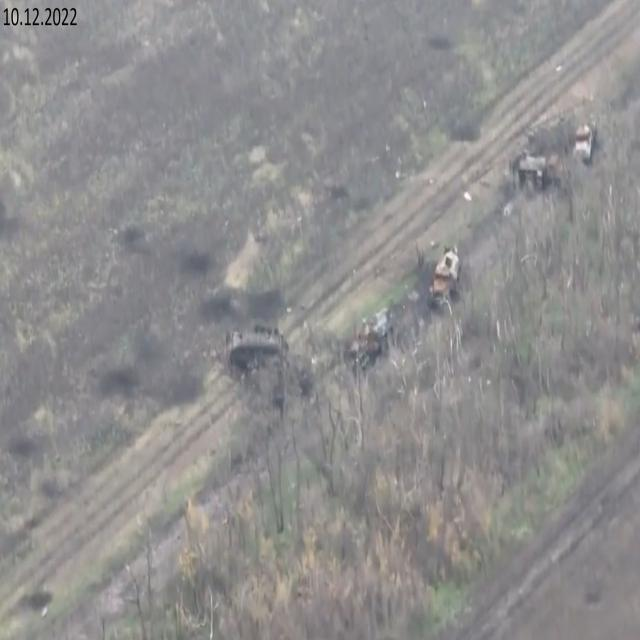apc: (230, 332, 289, 363)
cars: (519, 156, 567, 188), (430, 252, 460, 300), (574, 124, 594, 162)
